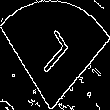L_SW: (34, 27, 76, 83)
